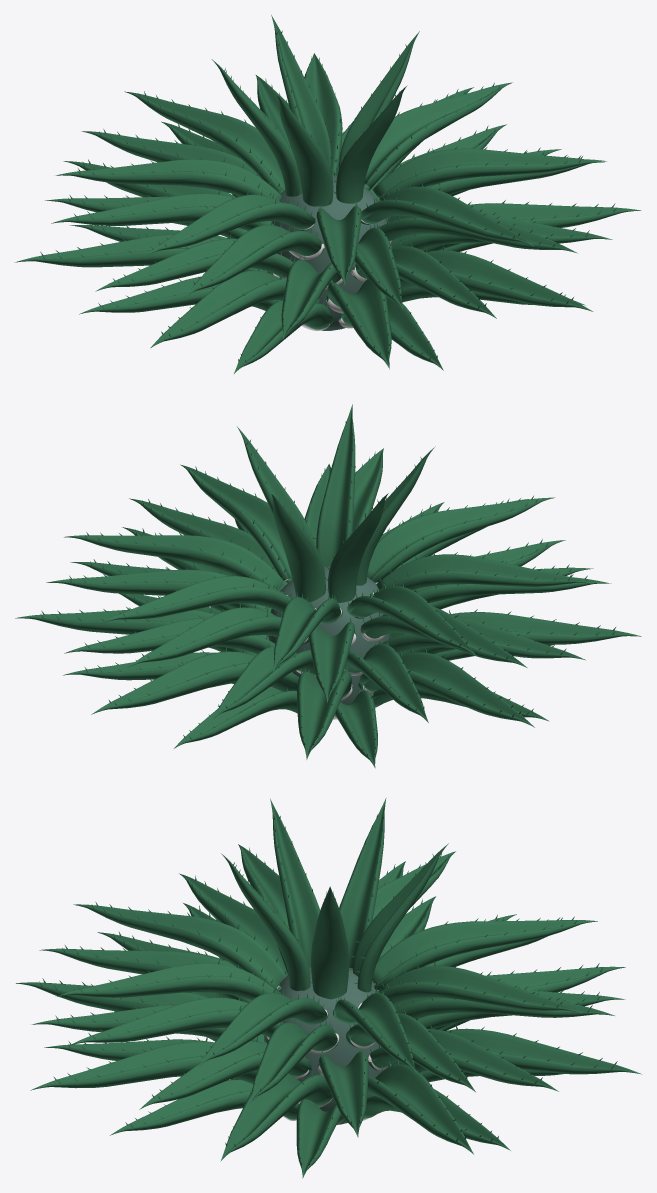
File: Maguey_Origin.fbx
3 renders of one model, top to bottom at view 1: azimuth 30°, elevation 25°; view 2: azimuth 150°, elevation 25°; view 3: azimuth 270°, elevation 25°, orthographic. The views are drawn at different scales.
Parts seen in each view (by area): view 1: Penca7, Penca.004, Penca.003, Penca.001, Penca6, Penca4, Penca.016, Penca5.003, Penca4.001, Heart, Penca.008, Penca.012 (+27 smaller); view 2: Penca5, Penca.001, Penca4, Penca.013, Penca.002, Penca.015, Penca.021, Penca.006, Penca7, Penca.004, Penca.016, Penca.005 (+26 smaller); view 3: Penca.003, Penca5, Penca.002, Penca6, Penca5.003, Penca6.001, Penca7.003, Penca.013, Heart, Penca6.003, Penca7, Penca.023 (+26 smaller).
Boxes of the visible parts, left/top/right/bottom form: Penca7: left=373, top=146, right=604, bottom=200; Penca.004: left=56, top=157, right=282, bottom=202; Penca.003: left=124, top=91, right=285, bottom=191; Penca.001: left=364, top=82, right=512, bottom=189; Penca6: left=360, top=182, right=534, bottom=246; Penca4: left=146, top=190, right=315, bottom=255; Penca.016: left=150, top=267, right=286, bottom=348; Penca5.003: left=400, top=245, right=593, bottom=311; Penca4.001: left=184, top=221, right=321, bottom=297; Heart: left=267, top=175, right=392, bottom=330; Penca.008: left=51, top=191, right=275, bottom=230; Penca.012: left=95, top=233, right=293, bottom=291; Penca5: left=367, top=496, right=554, bottom=582; Penca.001: left=64, top=532, right=284, bottom=590; Penca4: left=373, top=551, right=593, bottom=595; Penca.013: left=91, top=646, right=298, bottom=714; Penca.002: left=102, top=571, right=291, bottom=622; Penca.015: left=359, top=648, right=534, bottom=727; Penca.021: left=316, top=404, right=355, bottom=566; Penca.006: left=127, top=603, right=281, bottom=667; Penca7: left=180, top=464, right=292, bottom=581; Penca.004: left=347, top=582, right=476, bottom=655; Penca.016: left=398, top=609, right=641, bottom=656; Penca.005: left=46, top=567, right=272, bottom=614; Penca.003: left=372, top=916, right=597, bottom=990; Penca5: left=73, top=901, right=286, bottom=988; Penca.002: left=368, top=961, right=582, bottom=1013; Penca6: left=57, top=959, right=280, bottom=1000; Penca5.003: left=30, top=1035, right=257, bottom=1090; Penca6.001: left=69, top=994, right=282, bottom=1045; Penca7.003: left=367, top=1060, right=473, bottom=1154; Penca.013: left=391, top=1024, right=641, bottom=1074; Heart: left=264, top=966, right=391, bottom=1124; Penca6.003: left=220, top=1069, right=333, bottom=1161; Penca7: left=198, top=988, right=326, bottom=1066; Penca.023: left=339, top=798, right=386, bottom=968.
Bounding box in the file's own units: 180 × 88.38 × 180.
